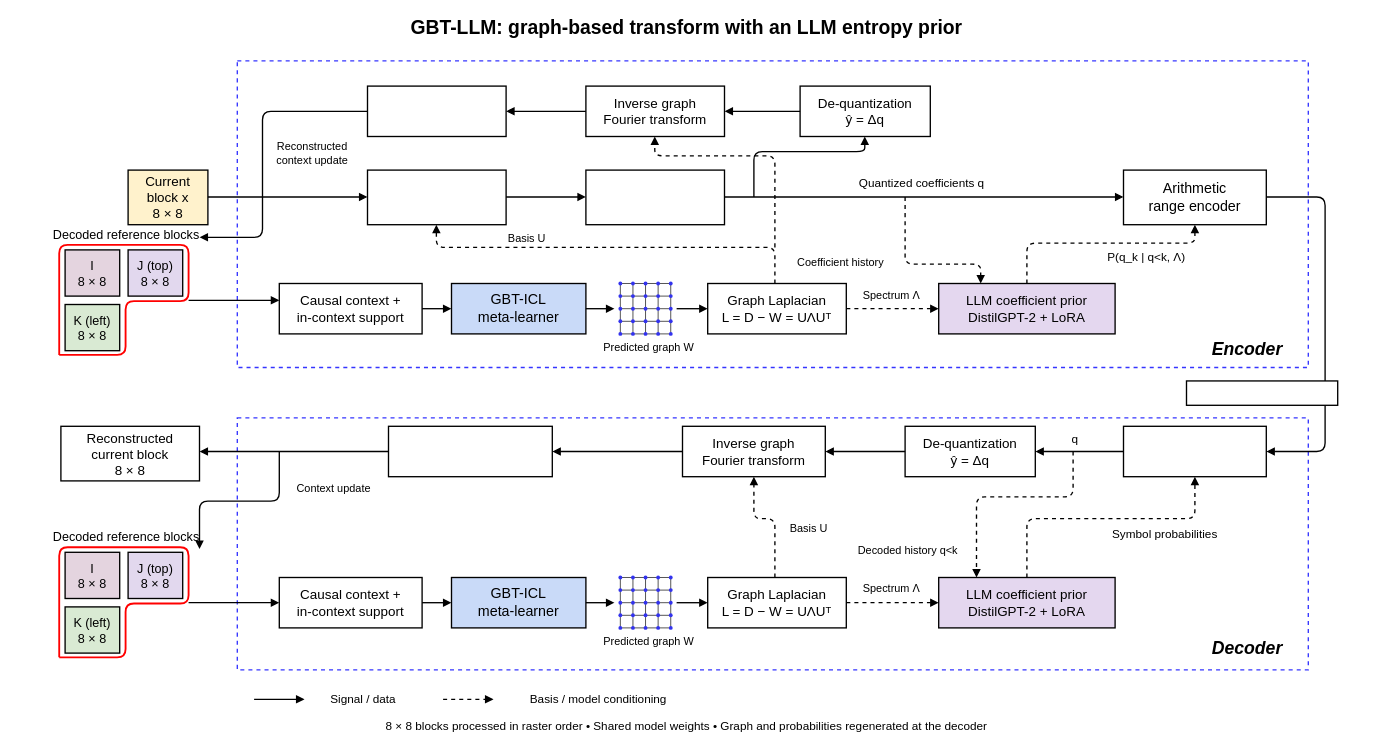
Some shapes in this 1373 by 749 pixel diagram are drawn without their labels. The centre of each missing label's shape, as x and y in pixels:
"Arithmetic range decoder" belongs at point 1194,451.
"Compressed bitstream" belongs at point 1261,393.
"Graph Fourier transform y = Uᵀx" belongs at point 436,197.
"Quantization q = round(y / Δ)" belongs at point 655,197.
"Reconstructed block x̂ (round / clip)" belongs at point 436,111.
"Reconstructed block x̂ = Uŷ (round / clip)" belongs at point 470,451.
